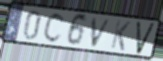0: (22, 9, 43, 41)
6: (64, 13, 89, 49)
C: (42, 12, 67, 44)
K: (109, 19, 132, 53)
V: (90, 17, 113, 48), (136, 21, 156, 55)
